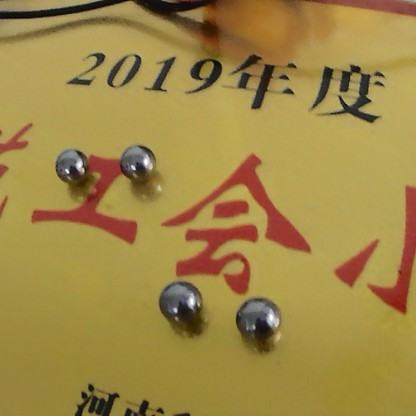ironball: (153, 277, 210, 323), (239, 293, 284, 348), (45, 141, 97, 184), (117, 139, 155, 180)
